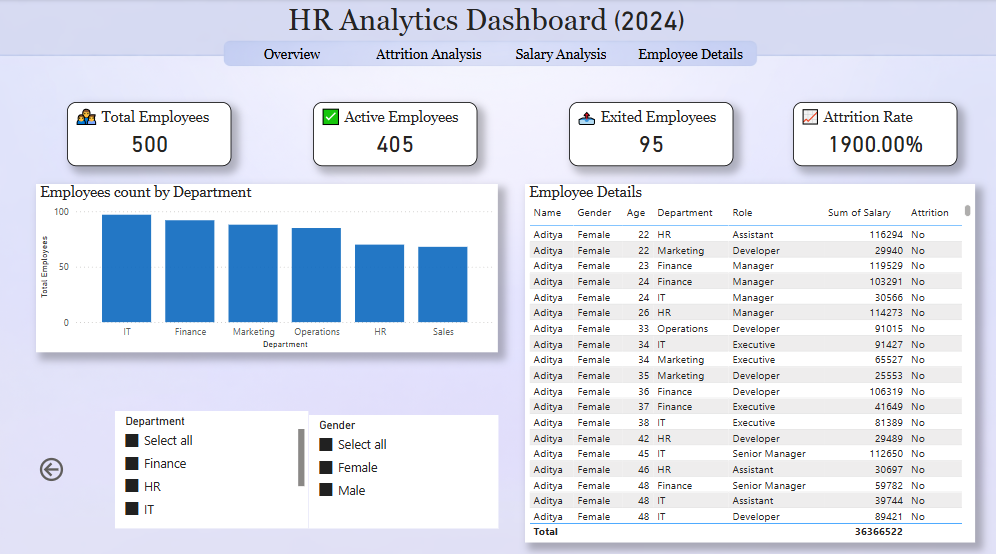

This screenshot's page, from the dashboard's own definition file:
{"tool":"powerbi","page":{"name":"Employee Details","canvas":[1280,720],"ordinal":3},"visuals":[{"type":"card","title":"👨👦👦 Total Employees","fields":{"Values":["Employees.Total Employees"]},"box":[89.2,131.3,210.4,81.6],"z":0},{"type":"card","title":"✅ Active Employees","fields":{"Values":["Employees.Active Employees"]},"box":[404.1,131.3,210.4,81.6],"z":1000},{"type":"card","title":"📤 Exited Employees","fields":{"Values":["Employees.Exited Employees"]},"box":[730.5,131.3,210.4,81.6],"z":2000},{"type":"card","title":"📈 Attrition Rate","fields":{"Values":["Employees.Attrition Rate (%)"]},"box":[1017.4,131.3,210.4,81.6],"z":3000},{"type":"clusteredColumnChart","title":"Employees count by Department","fields":{"Category":["Employees.Department"],"Y":["Employees.Total Employees"]},"box":[49.7,235.9,590.3,215.5],"z":4000},{"type":"tableEx","title":"Employee Details","fields":{"Values":["Employees.Name","Employees.Gender","Employees.Age","Employees.Department","Employees.Role","Sum(Employees.Salary)","Employees.Attrition"]},"box":[674.4,235.9,575,457.7],"z":5000},{"type":"textbox","box":[0,0,1249.4,53.5],"z":6000},{"type":"shape","box":[464.1,53.5,175.9,34.4],"z":7000},{"type":"shape","box":[288.1,53.5,175.9,34.4],"z":8000},{"type":"shape","box":[800.6,53.5,169.6,34.4],"z":9000},{"type":"shape","box":[640,53.5,160.6,34.4],"z":10000},{"type":"shape","box":[49.7,526.5,590.3,150.4],"z":12000}]}

Visuals, with their boxes in screenshot pixels (x1, y1, x2, y2), scaled from the page's 1280x720 canvas onto the 996x554 screenshot:
"👨👦👦 Total Employees" card: (x1=69, y1=101, x2=233, y2=164)
"✅ Active Employees" card: (x1=314, y1=101, x2=478, y2=164)
"📤 Exited Employees" card: (x1=568, y1=101, x2=732, y2=164)
"📈 Attrition Rate" card: (x1=792, y1=101, x2=955, y2=164)
"Employees count by Department" clusteredColumnChart: (x1=39, y1=182, x2=498, y2=347)
"Employee Details" tableEx: (x1=525, y1=182, x2=972, y2=534)
textbox: (x1=0, y1=0, x2=972, y2=41)
shape: (x1=361, y1=41, x2=498, y2=68)
shape: (x1=224, y1=41, x2=361, y2=68)
shape: (x1=623, y1=41, x2=755, y2=68)
shape: (x1=498, y1=41, x2=623, y2=68)
shape: (x1=39, y1=405, x2=498, y2=521)
